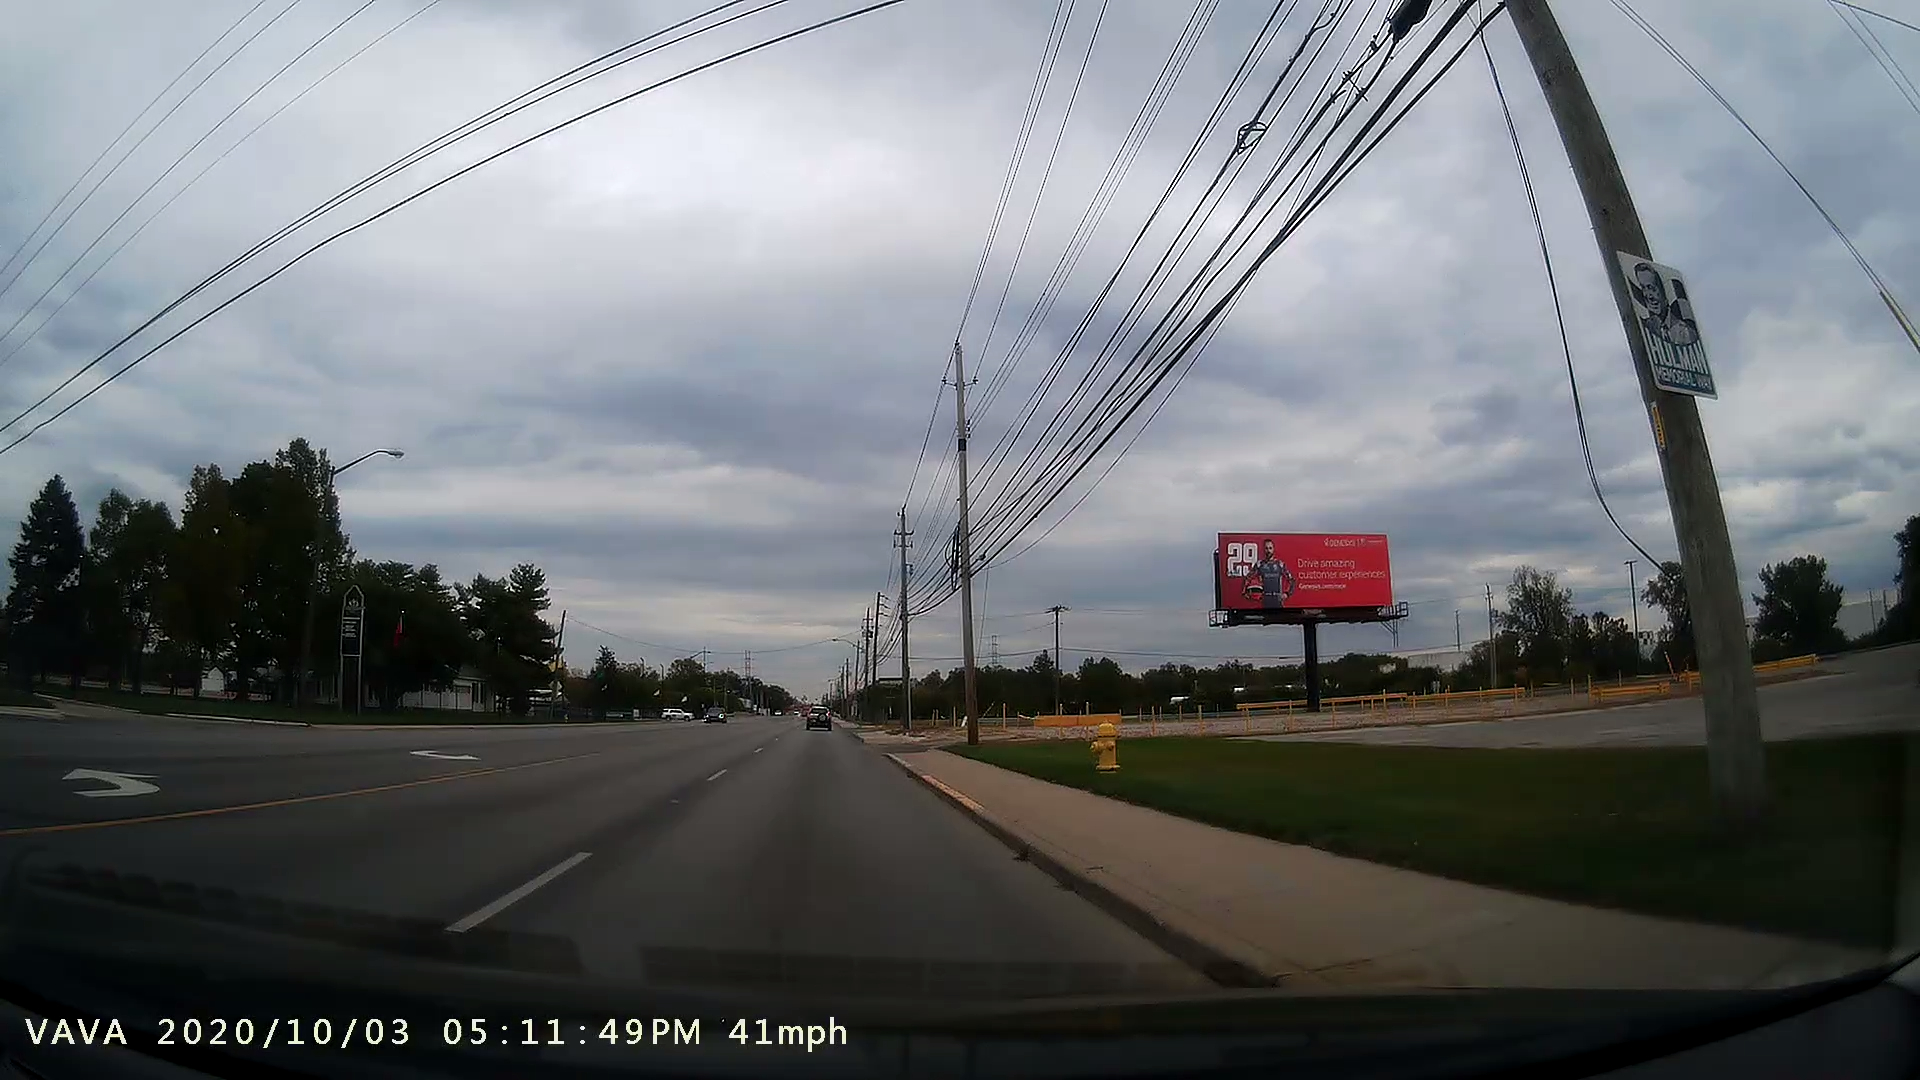fire_hydrant: (1073, 704, 1133, 785)
